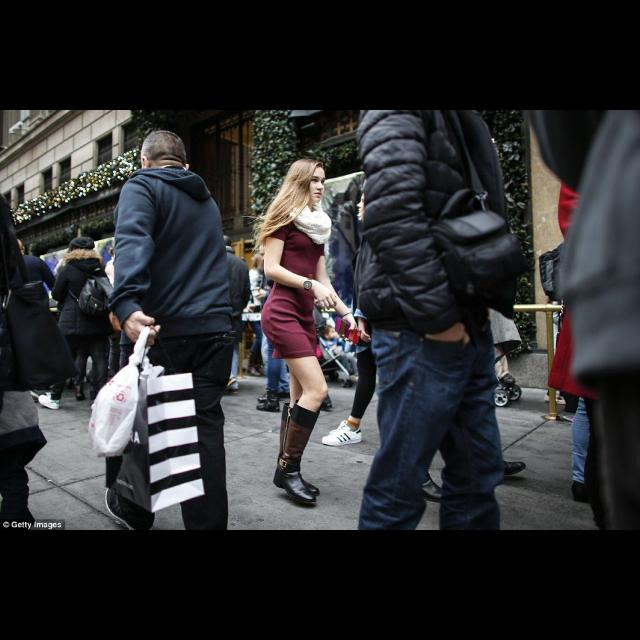head: (0, 122, 52, 530), (394, 110, 476, 152), (140, 130, 192, 178), (589, 116, 637, 166), (286, 159, 328, 205), (356, 190, 384, 218), (68, 238, 94, 260), (260, 242, 276, 266), (218, 234, 234, 250), (12, 238, 26, 256), (320, 326, 338, 340)
person: (347, 110, 527, 528), (242, 152, 362, 510), (318, 174, 407, 456), (255, 228, 338, 416), (36, 233, 116, 414), (0, 232, 64, 404), (202, 230, 254, 402), (318, 321, 367, 381), (0, 110, 2, 110)
